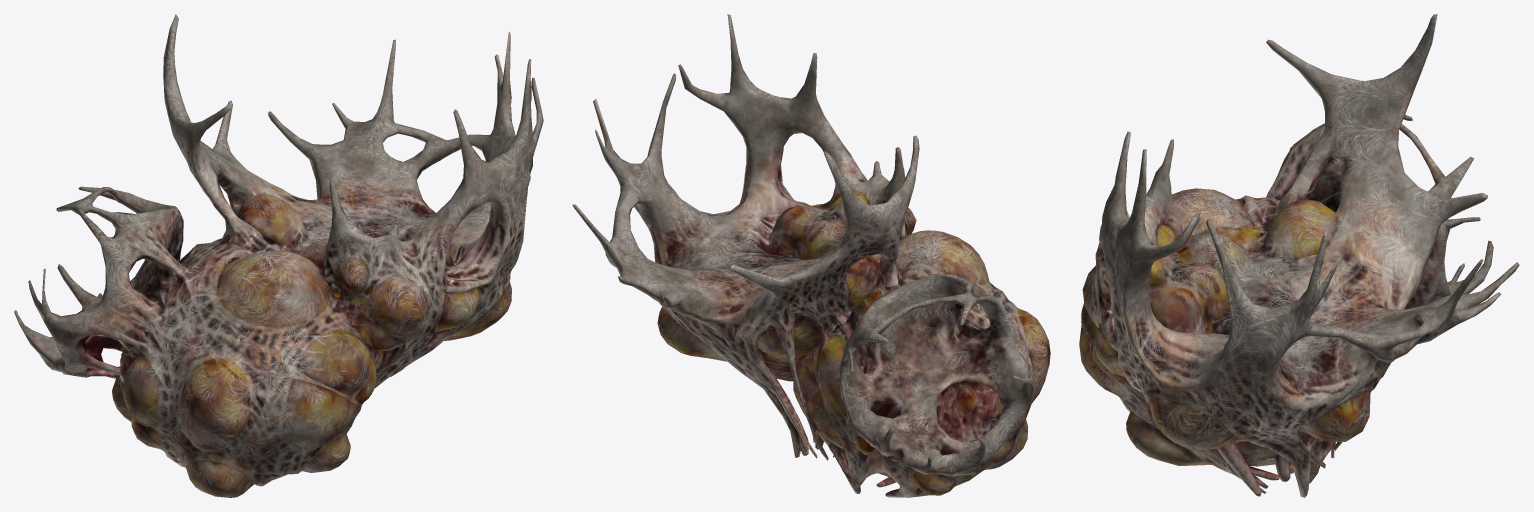
The model's file is P_CircusballoonDamage01.fbx.
The picture shows the model from 3 angles, left to right: view 1: azimuth 30°, elevation 25°; view 2: azimuth 150°, elevation 25°; view 3: azimuth 270°, elevation 25°; orthographic projection. The views are drawn at different scales.
Parts seen in each view (by area): view 1: P_CircusBalloonDamage01; view 2: P_CircusBalloonDamage01; view 3: P_CircusBalloonDamage01.
Part boxes in pixels (x1,y1,x2,y2): P_CircusBalloonDamage01: [14, 14, 543, 497]; P_CircusBalloonDamage01: [572, 14, 1050, 497]; P_CircusBalloonDamage01: [1079, 14, 1519, 497].
Bounding box in the file's own units: 189 × 157 × 136.
